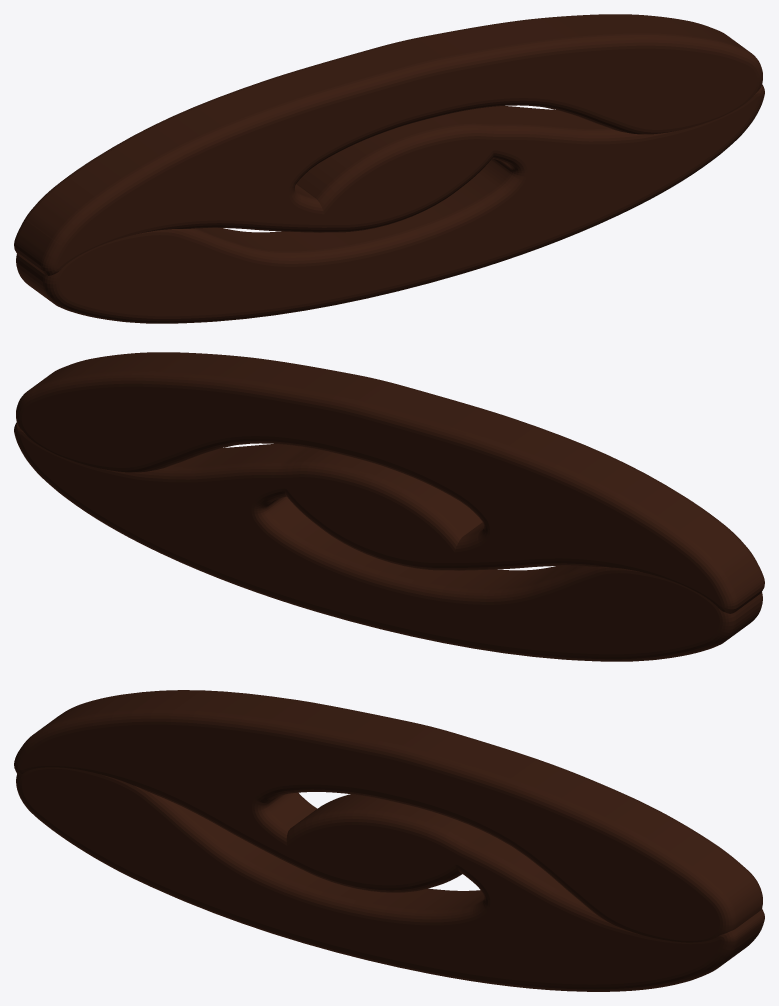
File: delsigel-emblema-vettoriale.glb
3 renders of one model, top to bottom at view 1: azimuth 30°, elevation 25°; view 2: azimuth 150°, elevation 25°; view 3: azimuth 330°, elevation 25°, orthographic.
Visible parts, largest first — view 1: Delsigel_Emblema_Vettoriale_Aperto; view 2: Delsigel_Emblema_Vettoriale_Aperto; view 3: Delsigel_Emblema_Vettoriale_Aperto.
Boxes of the visible parts, <box> form: Delsigel_Emblema_Vettoriale_Aperto: <box>14,14,764,323</box>; Delsigel_Emblema_Vettoriale_Aperto: <box>14,352,764,661</box>; Delsigel_Emblema_Vettoriale_Aperto: <box>14,690,764,991</box>.
Bounding box in the file's own units: 297 × 87.08 × 26.4.
